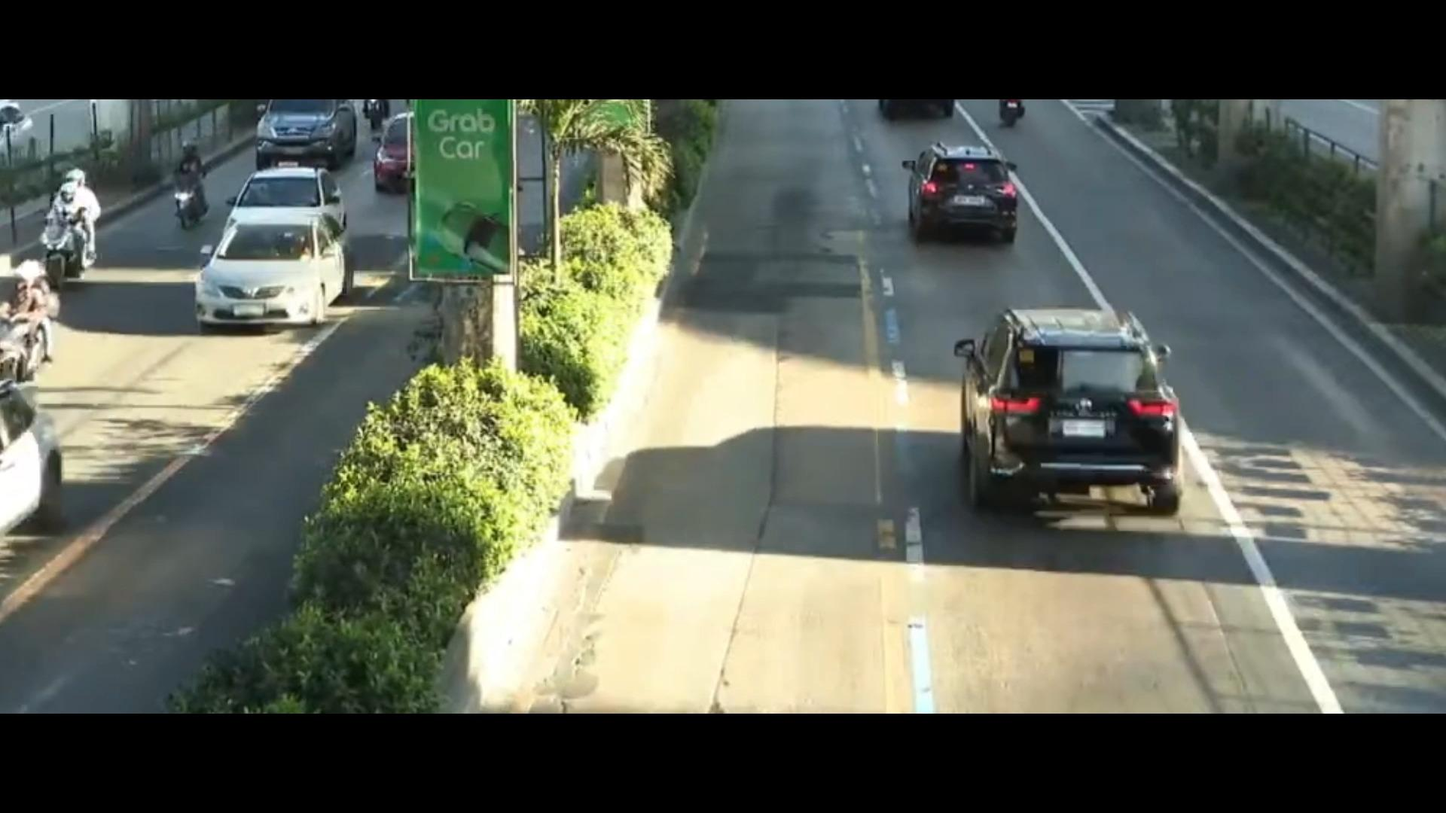Motorcycle: (134, 121, 226, 246), (0, 245, 74, 384), (25, 175, 102, 307), (362, 98, 393, 130)
SUV: (923, 271, 1233, 536), (876, 128, 1047, 261), (248, 98, 358, 179)
Sedan: (171, 204, 379, 348), (221, 157, 347, 240), (373, 111, 409, 187)
